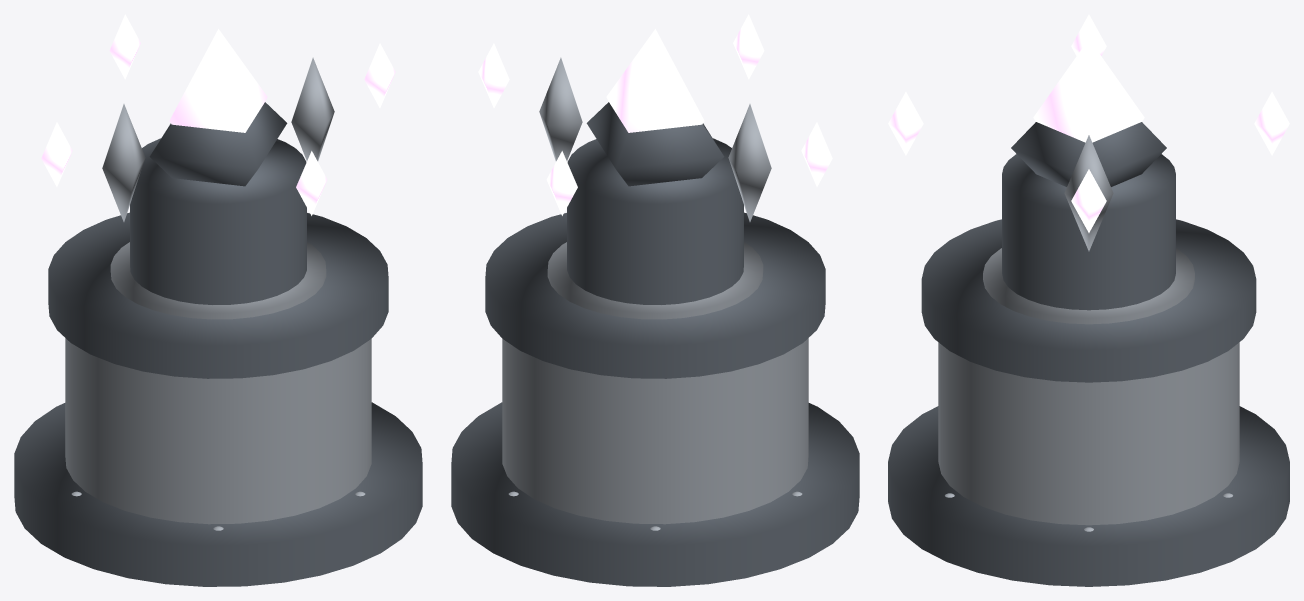
File: lightning.glb
3 views of the same model, side by side, from view 1: azimuth 30°, elevation 25°; view 2: azimuth 150°, elevation 25°; view 3: azimuth 270°, elevation 25° (orthographic).
Parts seen in each view (by area): view 1: base, footing, baseCollar, shaft, support, spinCrystal, lowerTrim, shardL, shardR, OrbitShard2, OrbitShard0, OrbitShard1 (+1 smaller); view 2: base, footing, baseCollar, shaft, support, spinCrystal, lowerTrim, shardL, shardR, OrbitShard2, OrbitShard0, OrbitShard3 (+1 smaller); view 3: base, footing, baseCollar, shaft, spinCrystal, support, lowerTrim, shardR, OrbitShard1, OrbitShard3, OrbitShard0, OrbitShard2.
Part boxes in pixels (<box>): base: <box>65,338,371,524</box>; footing: <box>14,402,422,586</box>; baseCollar: <box>48,212,388,378</box>; shaft: <box>130,138,306,304</box>; support: <box>149,102,287,186</box>; spinCrystal: <box>169,29,267,132</box>; lowerTrim: <box>110,242,326,319</box>; shardL: <box>102,104,145,221</box>; shardR: <box>291,57,334,161</box>; OrbitShard2: <box>41,122,72,186</box>; OrbitShard0: <box>364,43,395,107</box>; OrbitShard1: <box>296,151,327,215</box>; base: <box>502,338,808,524</box>; footing: <box>451,402,859,586</box>; baseCollar: <box>485,212,825,378</box>; shaft: <box>567,138,743,304</box>; support: <box>586,102,724,186</box>; spinCrystal: <box>606,29,704,132</box>; lowerTrim: <box>547,242,763,319</box>; shardL: <box>728,104,771,221</box>; shardR: <box>539,57,582,161</box>; OrbitShard2: <box>801,122,832,186</box>; OrbitShard0: <box>478,43,509,107</box>; OrbitShard3: <box>546,151,577,215</box>; base: <box>938,342,1239,525</box>; footing: <box>888,406,1289,586</box>; baseCollar: <box>921,219,1256,382</box>; shaft: <box>1002,154,1175,310</box>; spinCrystal: <box>1033,39,1144,142</box>; support: <box>1011,122,1166,186</box>; lowerTrim: <box>983,248,1194,324</box>; shardR: <box>1064,135,1113,251</box>; OrbitShard1: <box>888,92,923,155</box>; OrbitShard3: <box>1254,92,1289,155</box>; OrbitShard0: <box>1071,169,1106,232</box>; OrbitShard2: <box>1071,14,1106,55</box>.
Bounding box in the file's own units: 1.8 × 2.29 × 1.8.
